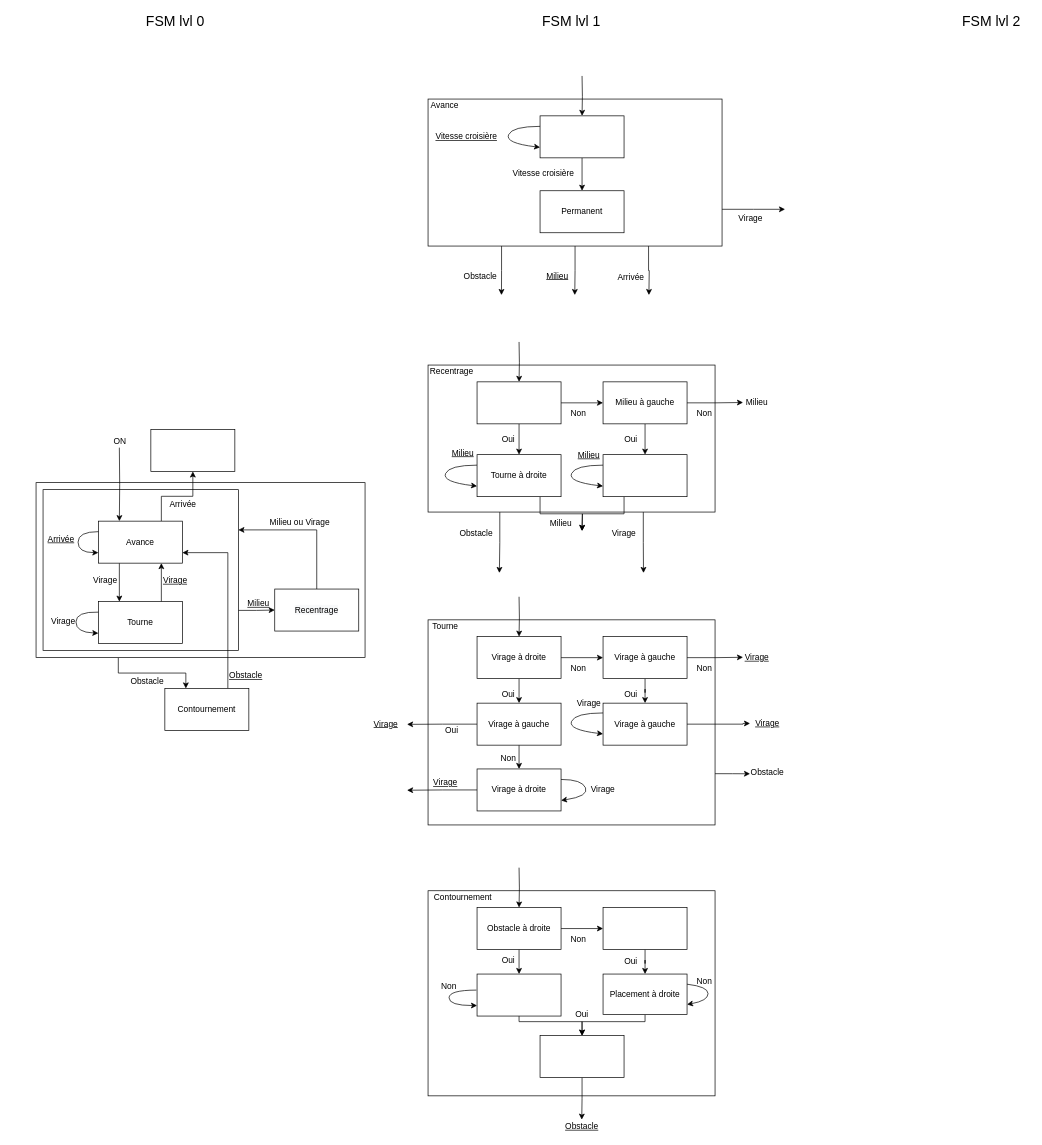
Some shapes in this 1042 by 1145 pixel diagram are drawn without their labels. Here are the shapes that lost their labels. From the top down, the centre of each, then its label:
At point 581,136: "Accélère".
At point 518,402: "Milieu à droite".
At point 192,450: "Arrêt".
At point 644,475: "Tourne à gauche".
At point 644,928: "Obstacle à gauche".
At point 518,994: "Placement à gauche".
At point 581,1056: "Roule droit 1 sec".
